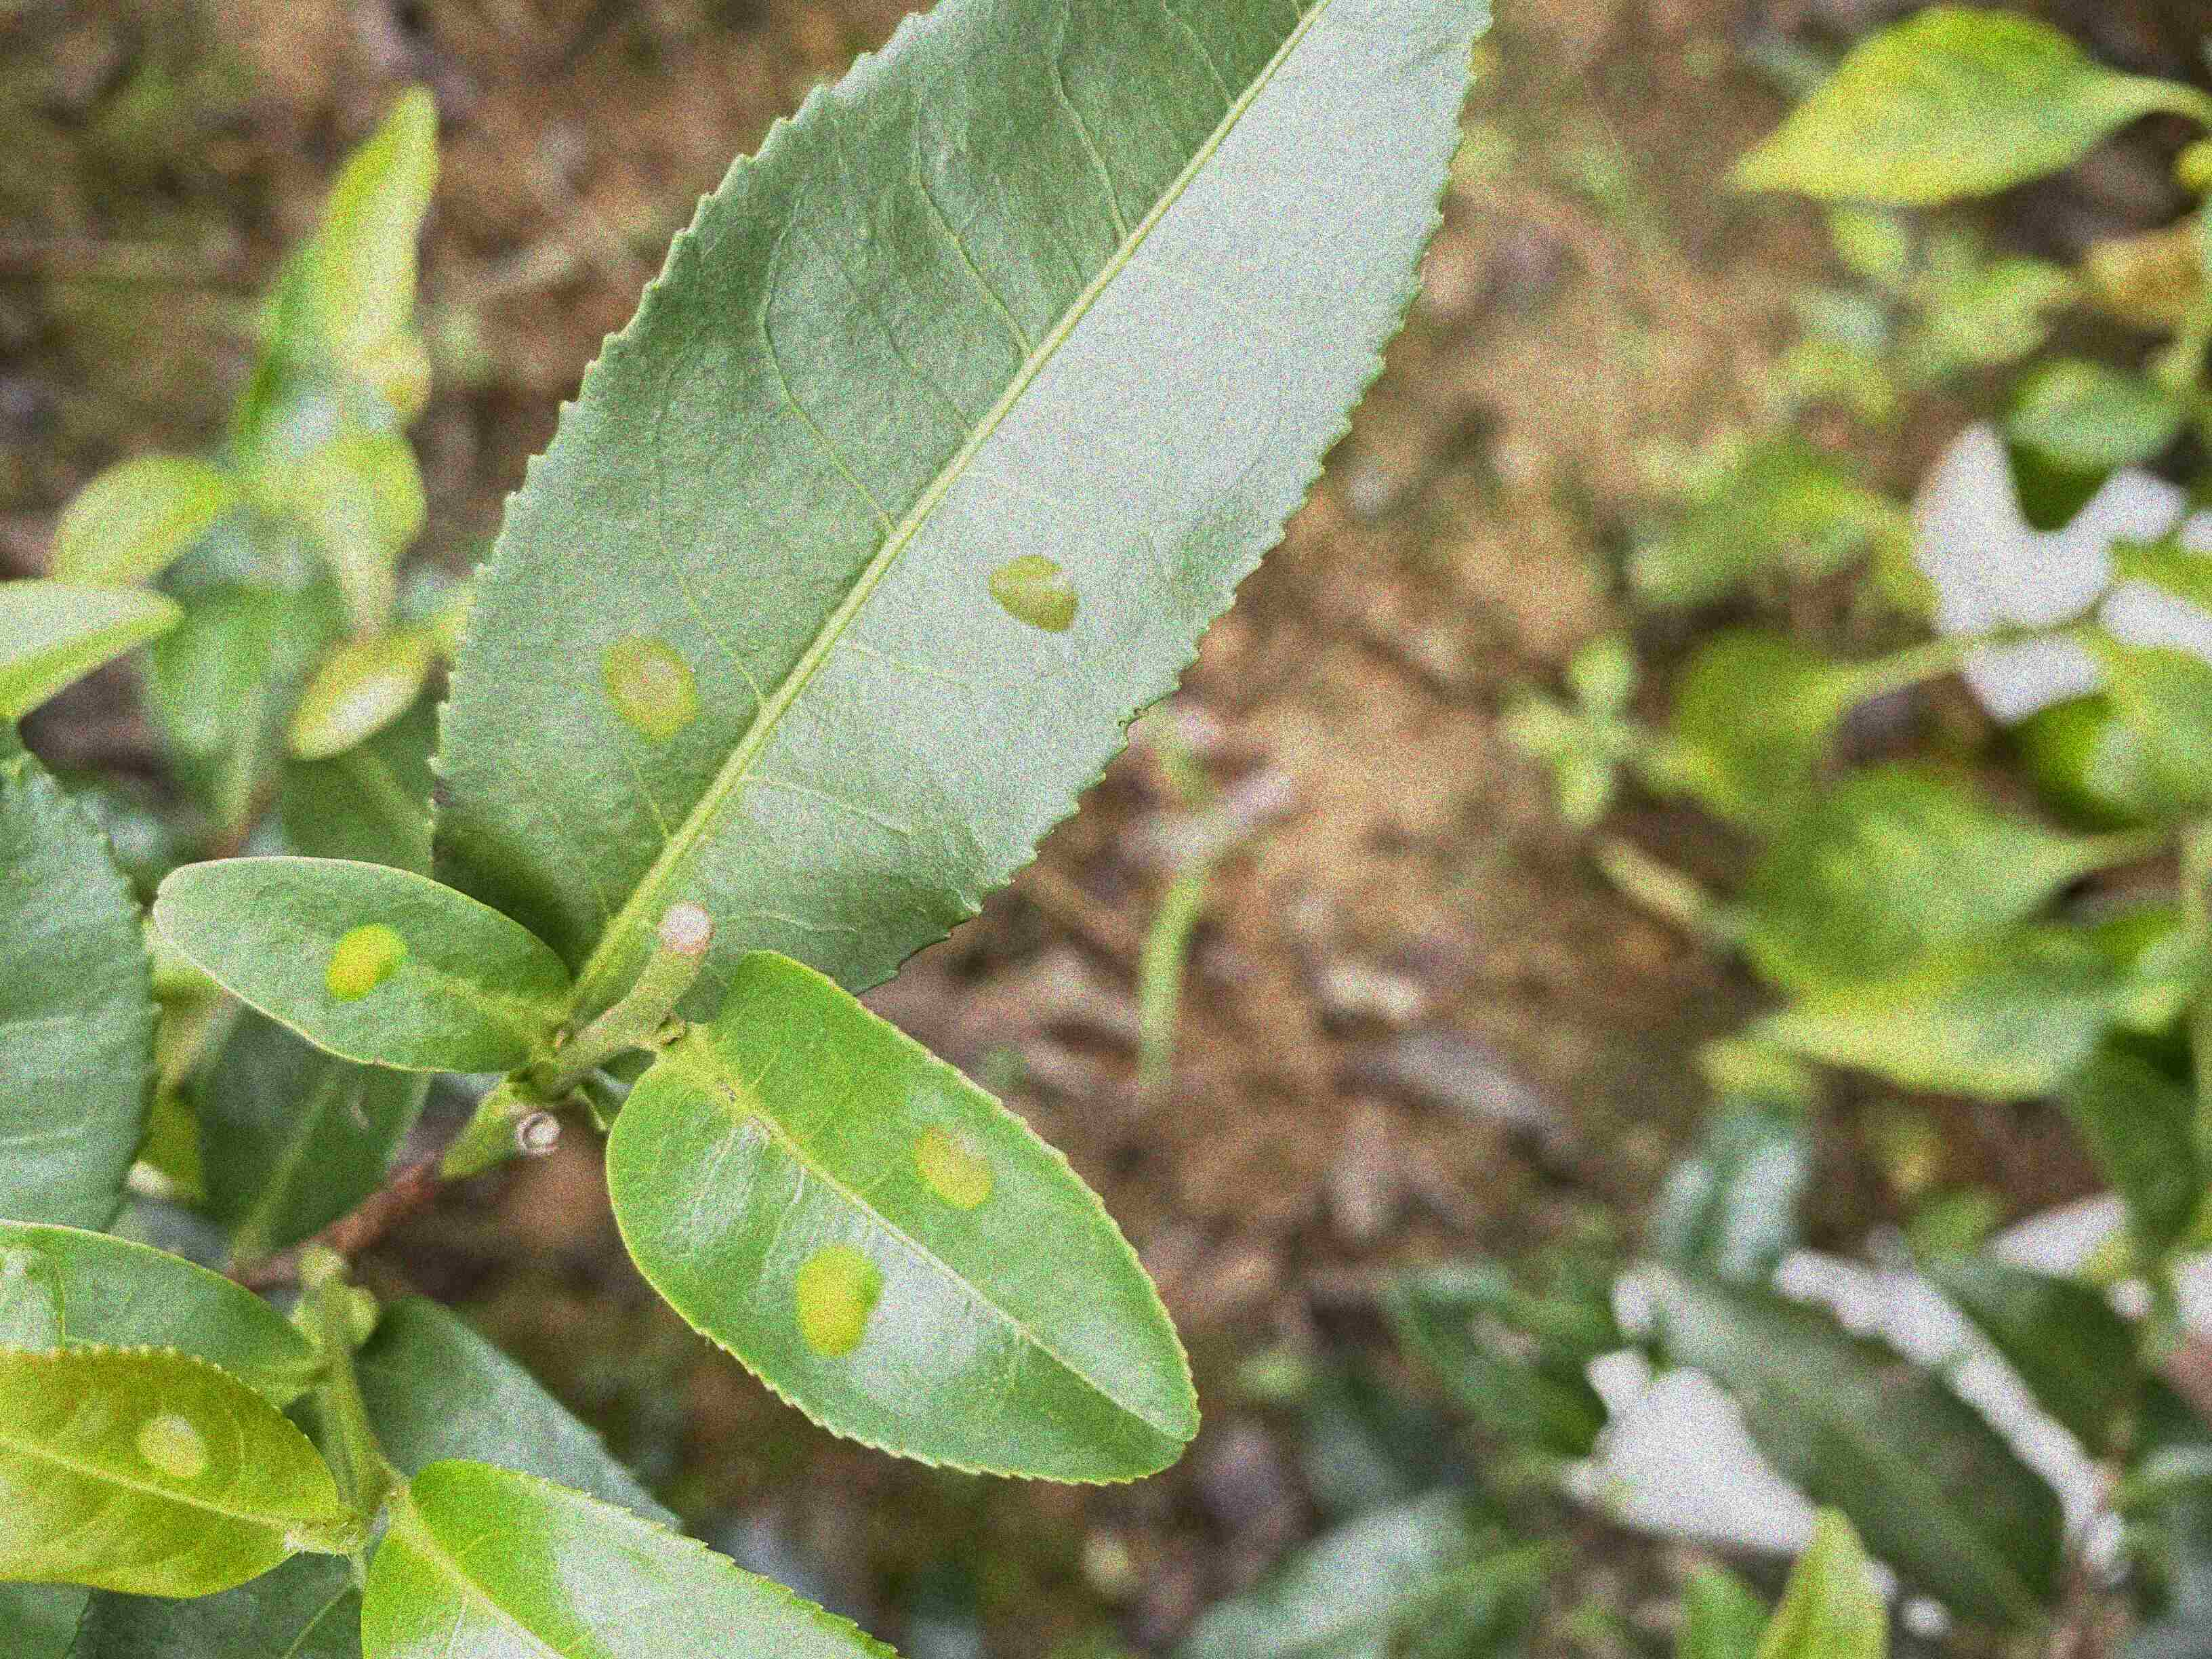chabing_high: (430, 7, 1494, 1032), (603, 950, 1204, 1486)
chabing_low: (153, 856, 571, 1075), (3, 1349, 336, 1600)
healthy: (355, 1459, 900, 1656)
